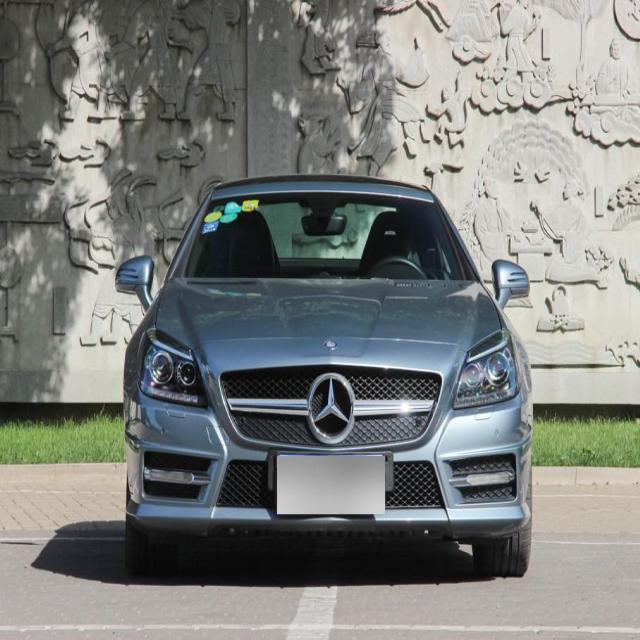front_bumper: (123, 389, 532, 539)
front_glass: (166, 190, 479, 283)
front_left_side_light: (449, 328, 519, 413)
front_left_side_mirror: (492, 258, 529, 308)
front_right_side_light: (134, 324, 208, 410)
front_right_side_mirror: (114, 253, 156, 306)
